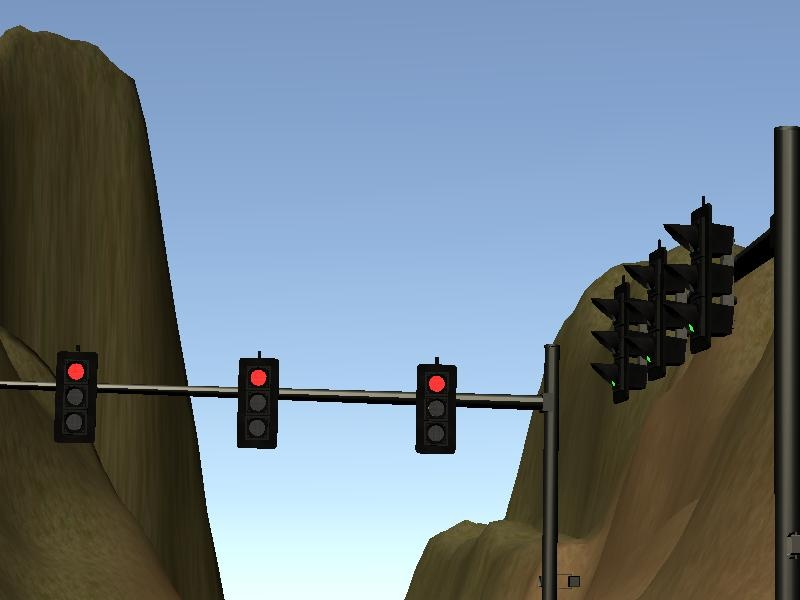RED: (236, 356, 277, 450), (54, 351, 95, 445), (416, 364, 455, 455)
